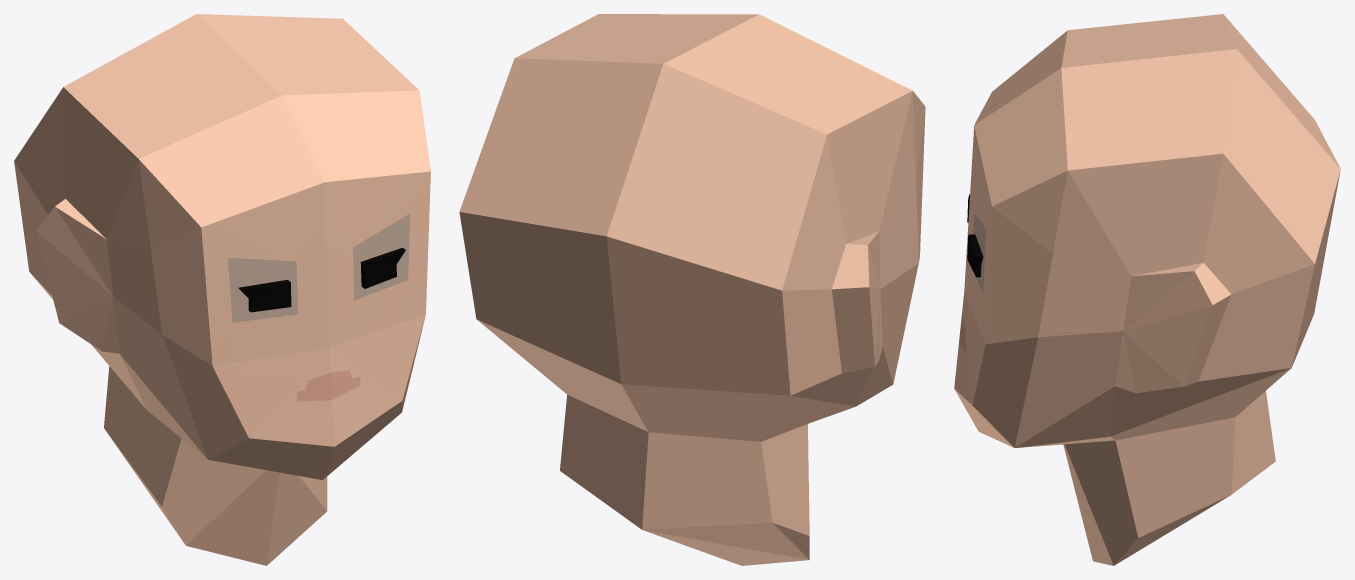
Rendered from Chr_Head_Female_07_Static.fbx.
3 renders of one model, left to right at view 1: azimuth 30°, elevation 25°; view 2: azimuth 150°, elevation 25°; view 3: azimuth 270°, elevation 25°, orthographic. The views are drawn at different scales.
Visible parts, largest first — view 1: Chr_Head_Female_07_Static; view 2: Chr_Head_Female_07_Static; view 3: Chr_Head_Female_07_Static.
Part boxes in pixels (left/top/right/bottom): Chr_Head_Female_07_Static: left=14, top=14, right=430, bottom=565; Chr_Head_Female_07_Static: left=459, top=14, right=925, bottom=565; Chr_Head_Female_07_Static: left=954, top=14, right=1340, bottom=565.
Bounding box in the file's own units: 0.2661 × 0.3693 × 0.2526.
